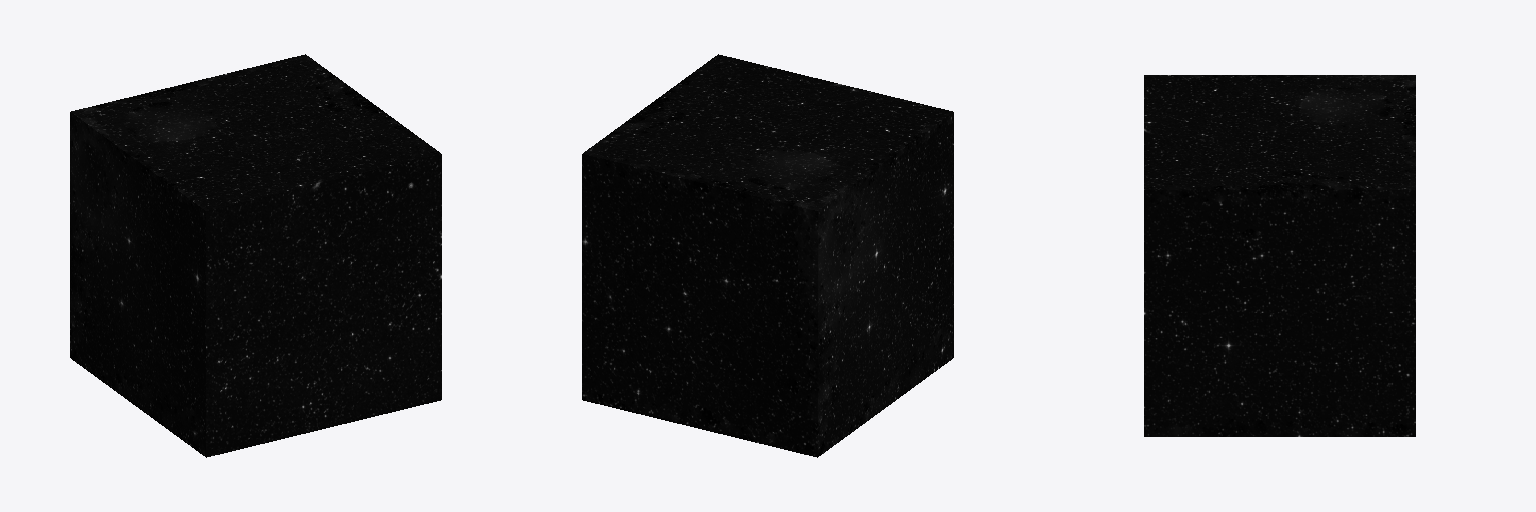
3 views of the same model, side by side, from view 1: azimuth 30°, elevation 25°; view 2: azimuth 150°, elevation 25°; view 3: azimuth 270°, elevation 25° (orthographic).
Parts seen in each view (by area): view 1: Skybox_Cube.002; view 2: Skybox_Cube.002; view 3: Skybox_Cube.002.
Boxes of the visible parts, x1,y1,x2,y2 form: Skybox_Cube.002: [70, 54, 441, 457]; Skybox_Cube.002: [582, 54, 953, 457]; Skybox_Cube.002: [1144, 75, 1415, 436].
Size of the model in its own units: 3500 by 3500 by 3500.
Materials: 1 (1 with a texture image).